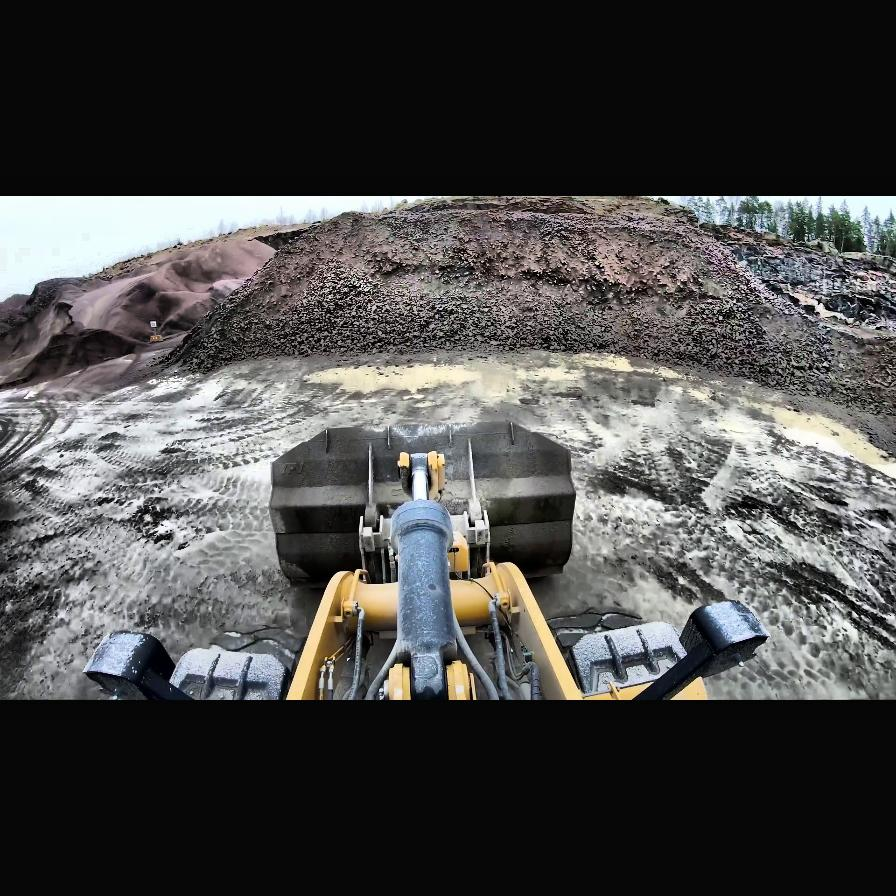anchor: (401, 450, 447, 502)
pile of gravel: (152, 197, 896, 412), (1, 231, 277, 397), (4, 326, 148, 390)
